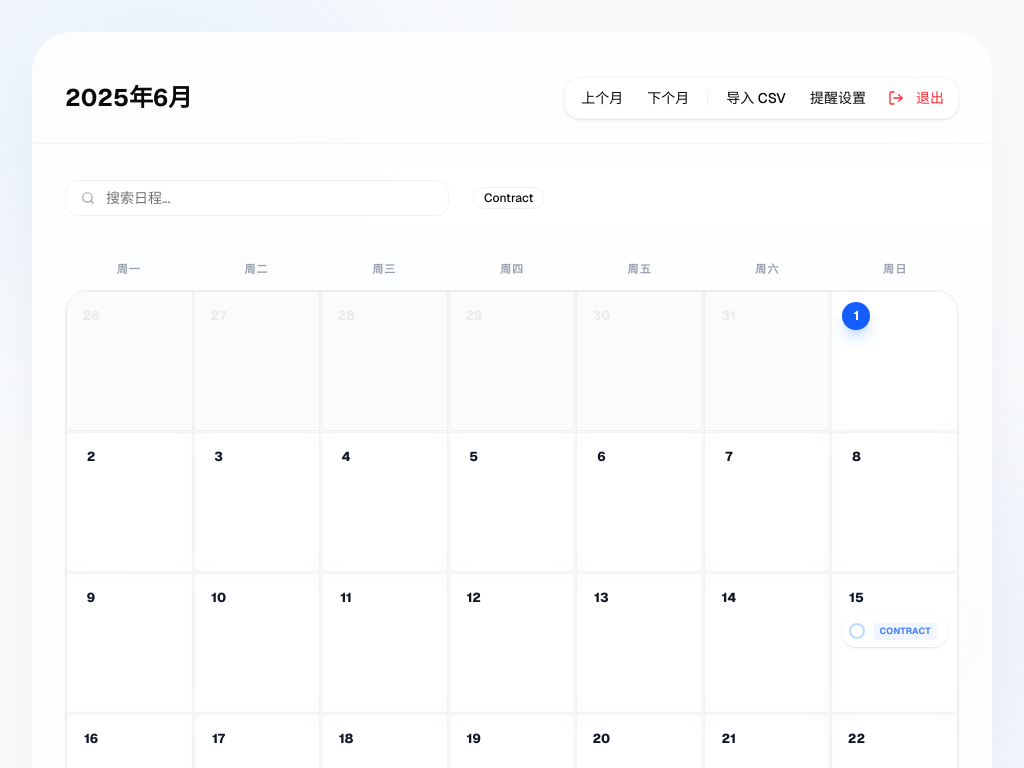
Test: CalendarPage › opens edit dialog with existing event data and delete button
This screenshot has width=1024, height=768.
Click the element with test id "calendar-event-1": (895, 631) [842,616,947,647]
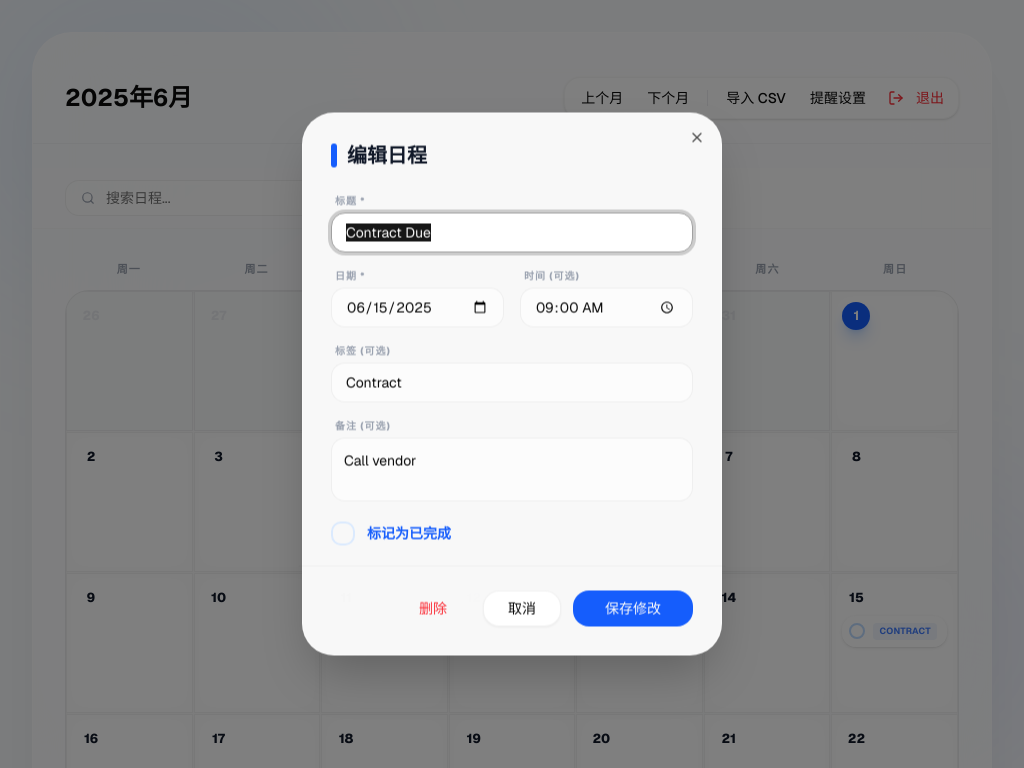
Check: the heading "编辑日程" is shown, box [331,142,427,168]
Check: the field labelled "标题 *" holds "Contract Due", box [331,212,693,252]
Check: the date field labelled "日期 *" holds "2025-06-15", box [331,288,504,328]
